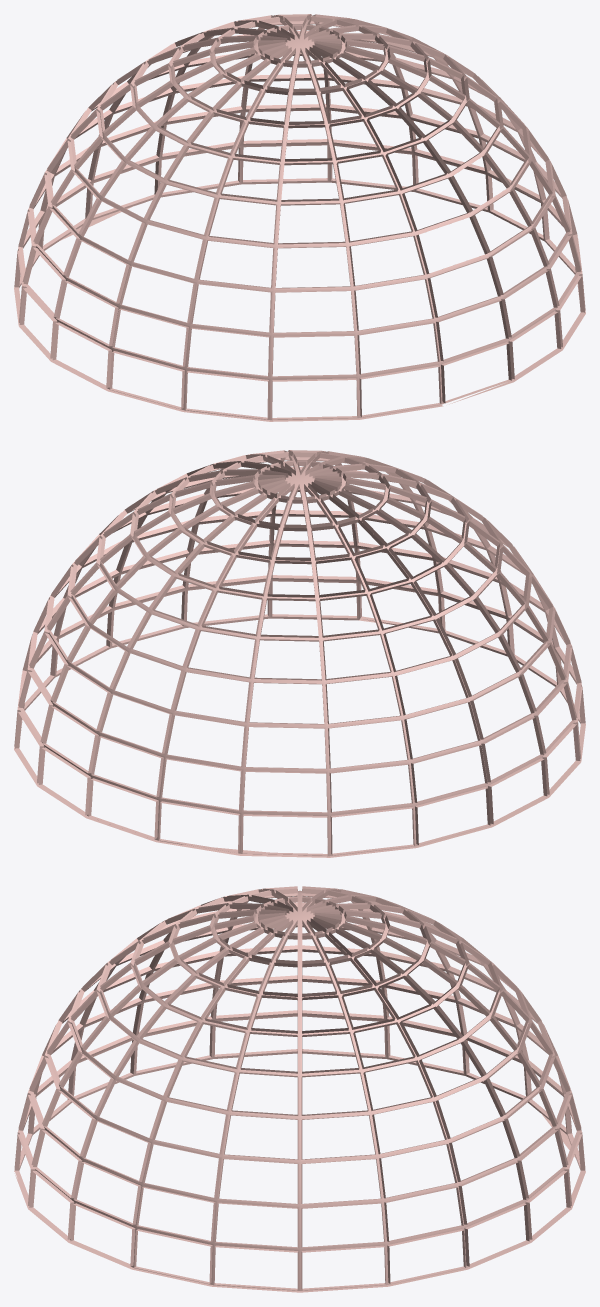
File: SM_Dome_Floorless.fbx
The picture shows the model from 3 angles, top to bottom: view 1: azimuth 30°, elevation 25°; view 2: azimuth 150°, elevation 25°; view 3: azimuth 270°, elevation 25°; orthographic projection.
Parts seen in each view (by area): view 1: Dome; view 2: Dome; view 3: Dome.
Part boxes in pixels (left/top/right/bottom): Dome: left=14, top=14, right=585, bottom=421; Dome: left=14, top=450, right=585, bottom=857; Dome: left=14, top=886, right=585, bottom=1292.
Bounding box in the file's own units: 24.06 × 12 × 24.06.
